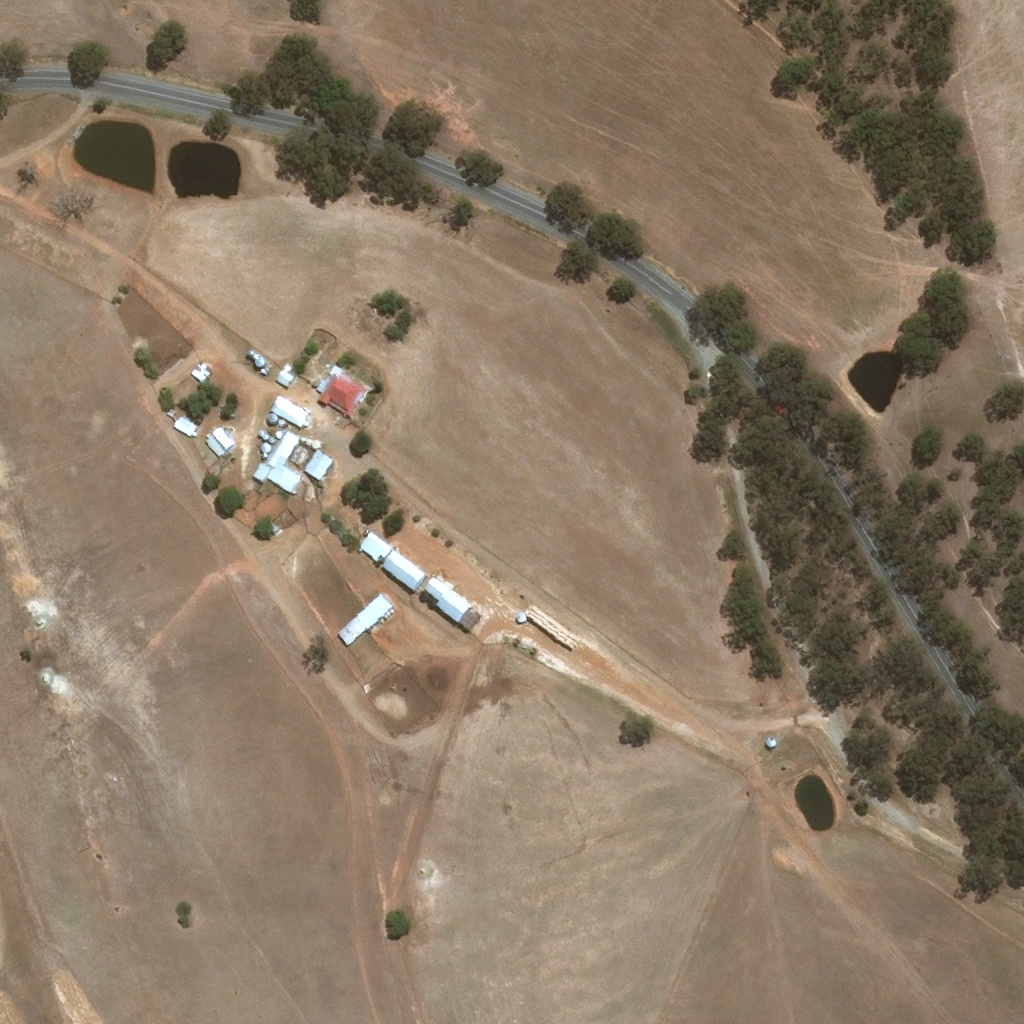0 no-damage: (338, 592, 396, 646), (418, 577, 473, 627), (317, 363, 367, 414), (382, 549, 427, 590), (270, 395, 311, 427), (267, 431, 300, 468), (357, 531, 395, 563), (266, 464, 304, 494), (303, 449, 334, 480), (206, 426, 235, 458), (190, 364, 213, 386), (173, 417, 198, 437), (246, 349, 266, 367), (253, 463, 272, 481), (275, 370, 294, 387), (260, 429, 276, 442), (261, 441, 272, 453), (165, 408, 176, 420), (269, 412, 279, 422), (313, 439, 322, 448), (261, 367, 270, 376), (283, 365, 291, 372), (276, 431, 283, 438), (278, 420, 285, 426), (307, 438, 312, 444), (301, 436, 306, 441)
4 un-classified: (755, 743, 767, 756), (774, 728, 784, 739)
